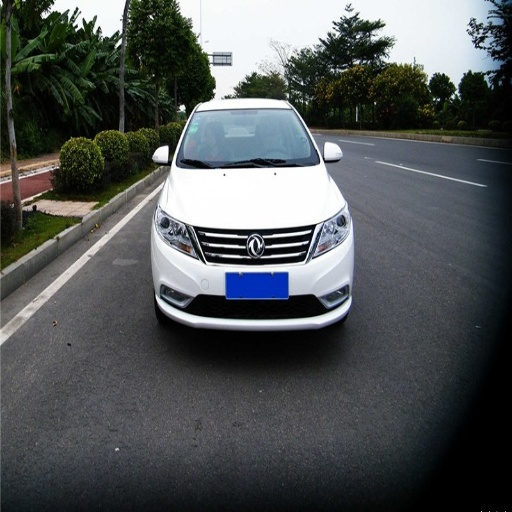front_bumper: (155, 221, 352, 331)
front_right_light: (154, 208, 197, 255)
hood: (166, 166, 342, 226)
